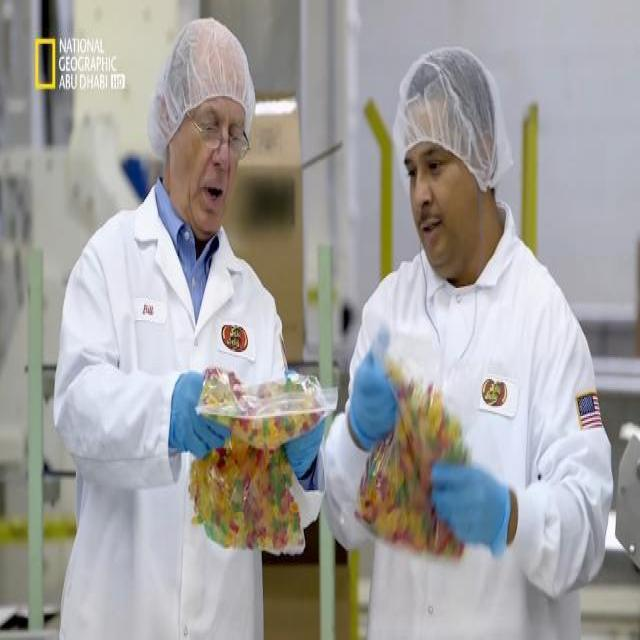gloved_hand: (428, 438, 529, 559), (343, 320, 408, 456), (161, 367, 236, 458), (290, 381, 329, 490)
